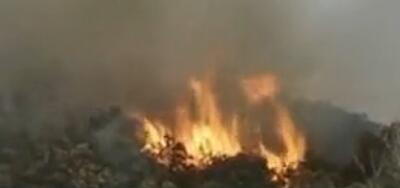fire: (134, 65, 310, 184)
